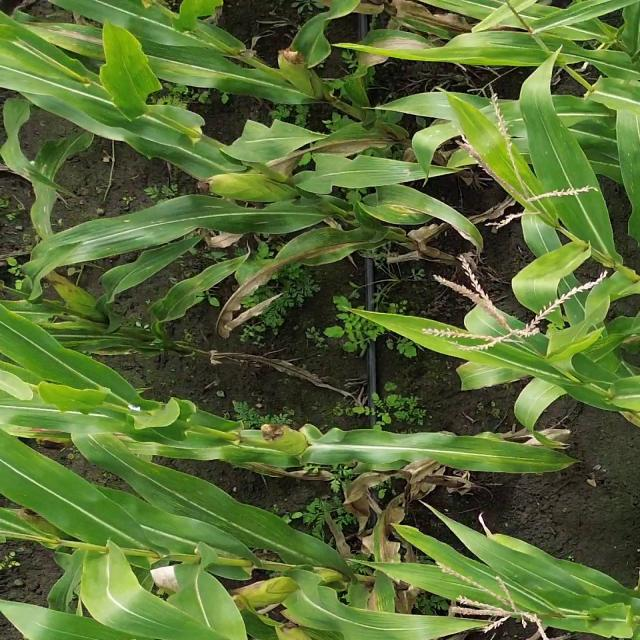gray-leaf-spot: (149, 484, 231, 518), (29, 194, 57, 240), (194, 265, 237, 293)
northern-leaf-blight: (250, 246, 333, 283), (347, 34, 430, 70), (41, 21, 118, 49), (378, 192, 440, 224)
